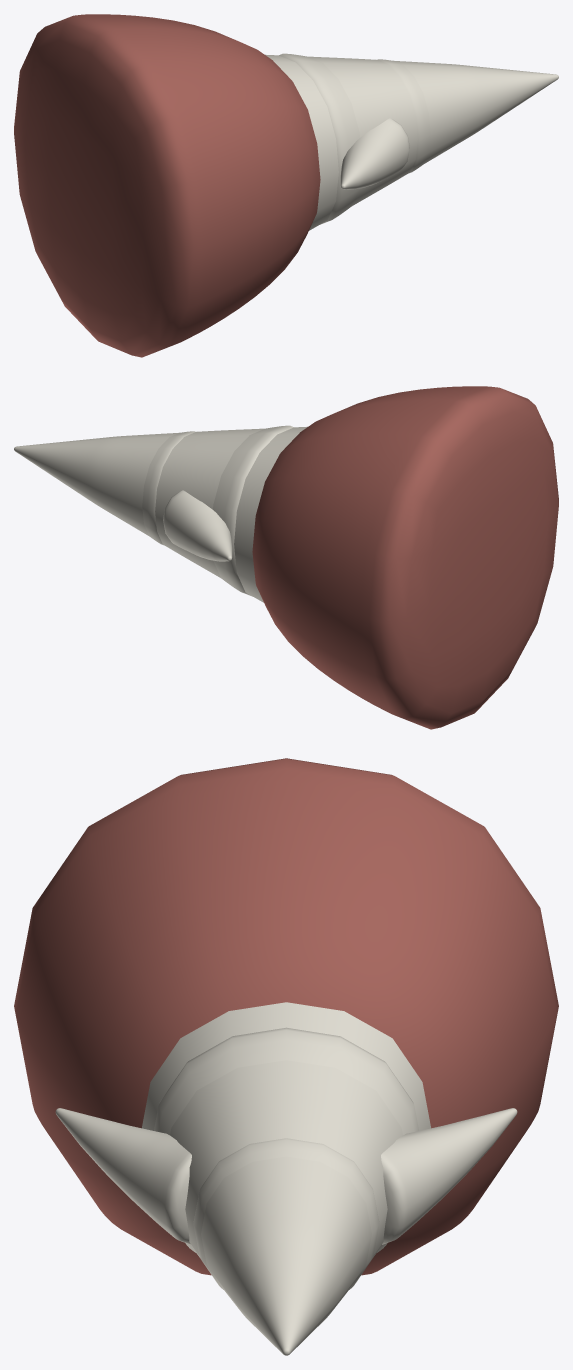
File: cell.spike.glb
3 renders of one model, top to bottom at view 1: azimuth 30°, elevation 25°; view 2: azimuth 150°, elevation 25°; view 3: azimuth 270°, elevation 25°, orthographic. The views are drawn at different scales.
Visible parts, largest first — view 1: Chitin, Claw; view 2: Chitin, Claw; view 3: Chitin, Claw.
Part boxes in pixels (left/top/right/bottom): Chitin: left=14, top=14, right=320, bottom=357; Claw: left=265, top=53, right=558, bottom=230; Chitin: left=252, top=386, right=558, bottom=729; Claw: left=14, top=425, right=307, bottom=602; Chitin: left=14, top=758, right=558, bottom=1275; Claw: left=55, top=1002, right=517, bottom=1355.
Size of the model in its own units: 0.6288 by 0.3926 by 0.3926.
